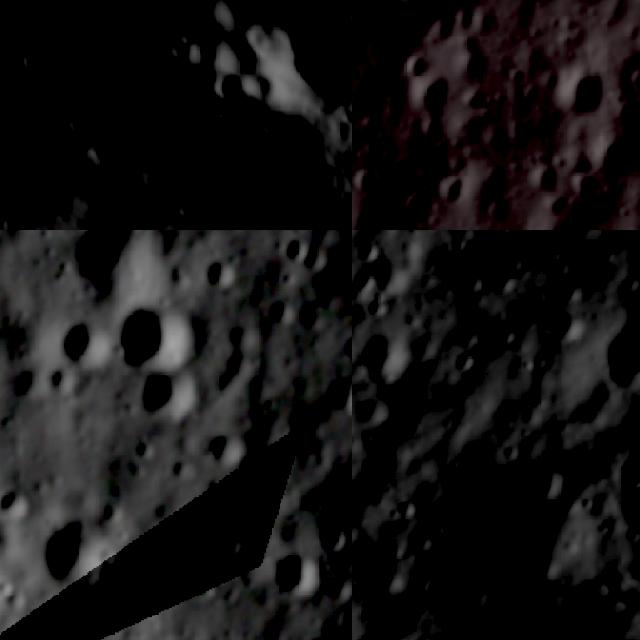crater: (226, 0, 352, 155), (34, 508, 128, 598), (578, 295, 640, 423), (106, 292, 200, 374), (352, 152, 438, 230), (494, 446, 574, 526), (66, 230, 152, 293), (587, 84, 640, 182), (131, 360, 208, 423), (352, 321, 418, 392), (194, 54, 260, 120), (199, 0, 278, 52), (170, 21, 234, 85), (264, 542, 332, 600), (52, 312, 112, 376), (551, 60, 607, 119), (5, 29, 61, 86), (200, 424, 258, 478), (0, 49, 41, 123), (538, 300, 591, 353), (599, 440, 640, 507), (304, 503, 352, 560), (408, 65, 453, 123), (206, 516, 252, 572), (198, 248, 246, 294), (396, 522, 441, 566), (442, 342, 484, 385), (0, 201, 60, 230), (431, 164, 472, 206), (234, 0, 318, 20), (0, 478, 34, 526), (388, 489, 428, 529), (566, 165, 604, 202), (484, 266, 521, 304), (527, 154, 562, 194), (266, 292, 302, 328), (280, 230, 317, 265), (6, 0, 49, 22), (0, 2, 13, 39)
